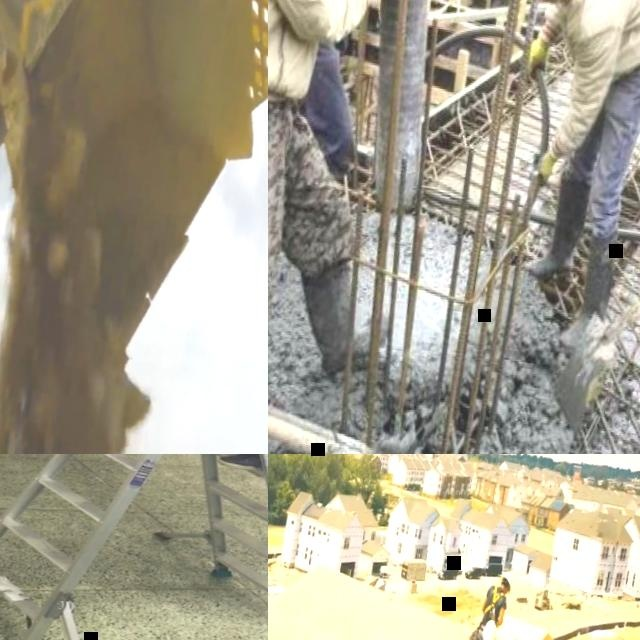Hardhat: (500, 570, 515, 594), (481, 619, 497, 640)
NO-Mask: (554, 0, 572, 10)
NO-Safety Vest: (268, 0, 351, 102), (558, 0, 640, 81), (483, 584, 506, 625)
Person: (268, 0, 462, 451), (463, 0, 640, 362), (471, 568, 513, 640)
machinery: (0, 0, 268, 340), (533, 585, 556, 612)
vehicle: (438, 562, 460, 582), (482, 561, 504, 580), (465, 565, 484, 582)
